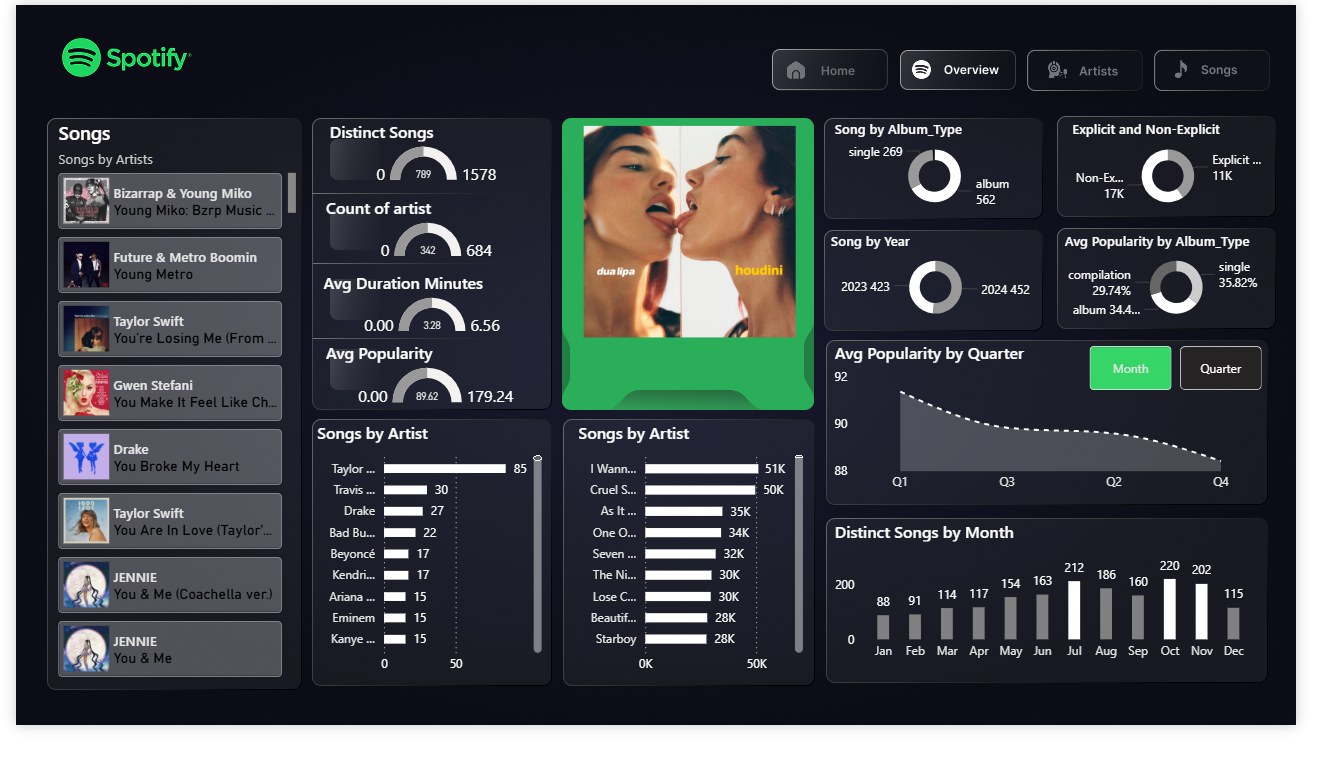

Layout of this report page (visuals, bound fields, positions):
{"tool":"powerbi","page":{"name":"Overview","canvas":[1280,720],"ordinal":1},"visuals":[{"type":"clusteredBarChart","title":"Songs by Artist","fields":{"Y":["_Measure.Distinct Songs"],"Category":["Top-50-World.artist"]},"box":[296.4,415.8,234.6,260.7],"z":0},{"type":"clusteredBarChart","title":"Songs by Artist","fields":{"Y":["Sum(Top-50-World.popularity)"],"Category":["Top-50-World.song"]},"box":[557.1,415.8,234.6,260.7],"z":1000},{"type":"areaChart","fields":{"Category":["Top-50-World.Qtr"],"Y":["_Measure.Avg Popularity"]},"box":[813.7,336.2,439.1,159.2],"z":2000},{"type":"advancedSlicerVisual","fields":{"Values":["Slicer_option.Slicer_option"]},"box":[1069,336.2,183.9,54.9],"z":3000},{"type":"donutChart","title":"Song by Album_Type","fields":{"Y":["_Measure.Distinct Songs"],"Category":["Top-50-World.album_type"]},"box":[813.7,115.3,209.9,94.7],"z":4000},{"type":"donutChart","title":"Explicit and Non-Explicit","fields":{"Y":["_Measure.Explicit Songs","_Measure.Non-Explicit Songs"]},"box":[1051.1,115.3,201.7,94.7],"z":5000},{"type":"donutChart","title":"Song by Year","fields":{"Y":["_Measure.Distinct Songs"],"Category":["Top-50-World.Year"]},"box":[809.6,226.4,219.6,94.7],"z":6000},{"type":"donutChart","title":"Avg Popularity by Album_Type","fields":{"Y":["_Measure.Avg Popularity"],"Category":["Top-50-World.album_type"]},"box":[1044.3,226.4,233.3,94.7],"z":7000},{"type":"clusteredColumnChart","fields":{"Y":["_Measure.Distinct Songs"],"Category":["Top-50-World.Month"]},"box":[813.7,514.6,428.1,149.6],"z":8000},{"type":"gauge","fields":{"Y":["_Measure.Distinct Songs"]},"box":[308.8,115,223.8,70],"z":9000},{"type":"gauge","fields":{"Y":["Count(Top-50-World.artist)"]},"box":[305,191.2,231.2,70],"z":10000},{"type":"gauge","fields":{"Y":["_Measure.Avg Duration Minutes"]},"box":[302.5,266.2,227.5,70],"z":11000},{"type":"gauge","fields":{"Y":["_Measure.Avg Popularity"]},"box":[305,336.2,230,71.2],"z":12000},{"type":"advancedSlicerVisual","title":"Songs","fields":{"Values":["Top-50-World.song"],"Label":["Min(Top-50-World.album_cover_url)"]},"box":[37.5,115,247.5,562.5],"z":13000},{"type":"cardVisual","fields":{"Data":["Min(Top-50-World.album_cover_url)"]},"box":[532.5,103.8,283.8,246.2],"z":14000},{"type":"actionButton","box":[757,45.5,115,40],"z":15000},{"type":"actionButton","box":[884.5,45.5,115,40],"z":16000},{"type":"actionButton","box":[1012,45.5,115,40],"z":17000},{"type":"actionButton","box":[1137,45.5,115,40],"z":18000}]}

Visuals, with their boxes on the page's 1280x720 design canvas (x1, y1, x2, y2). These are canvas units, not pixel positions in the 1326x780 screenshot, which may show the page scaled, cropped or inside an application window:
"Songs by Artist" clusteredBarChart: Rect(296, 416, 531, 676)
"Songs by Artist" clusteredBarChart: Rect(557, 416, 792, 676)
areaChart - Top-50-World.Qtr x _Measure.Avg Popularity: Rect(814, 336, 1253, 495)
advancedSlicerVisual - Slicer_option.Slicer_option: Rect(1069, 336, 1253, 391)
"Song by Album_Type" donutChart: Rect(814, 115, 1024, 210)
"Explicit and Non-Explicit" donutChart: Rect(1051, 115, 1253, 210)
"Song by Year" donutChart: Rect(810, 226, 1029, 321)
"Avg Popularity by Album_Type" donutChart: Rect(1044, 226, 1278, 321)
clusteredColumnChart - _Measure.Distinct Songs x Top-50-World.Month: Rect(814, 515, 1242, 664)
gauge - _Measure.Distinct Songs: Rect(309, 115, 533, 185)
gauge - Count(Top-50-World.artist): Rect(305, 191, 536, 261)
gauge - _Measure.Avg Duration Minutes: Rect(302, 266, 530, 336)
gauge - _Measure.Avg Popularity: Rect(305, 336, 535, 407)
"Songs" advancedSlicerVisual: Rect(38, 115, 285, 678)
cardVisual - Min(Top-50-World.album_cover_url): Rect(532, 104, 816, 350)
actionButton: Rect(757, 46, 872, 86)
actionButton: Rect(884, 46, 1000, 86)
actionButton: Rect(1012, 46, 1127, 86)
actionButton: Rect(1137, 46, 1252, 86)
